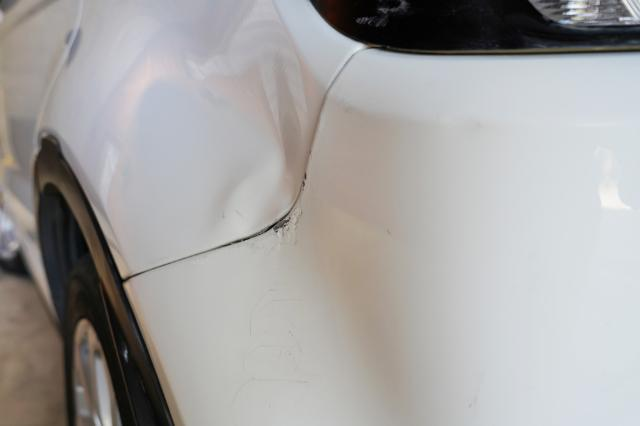dent: (223, 143, 299, 236)
